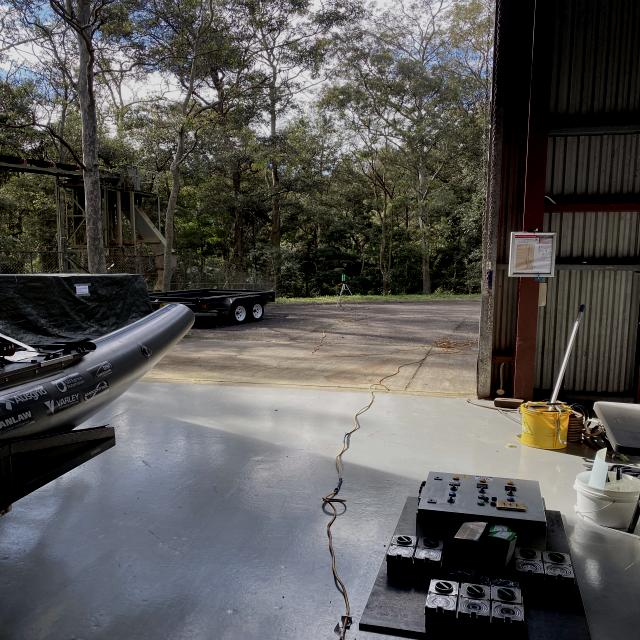matrix: (341, 274, 345, 281)
